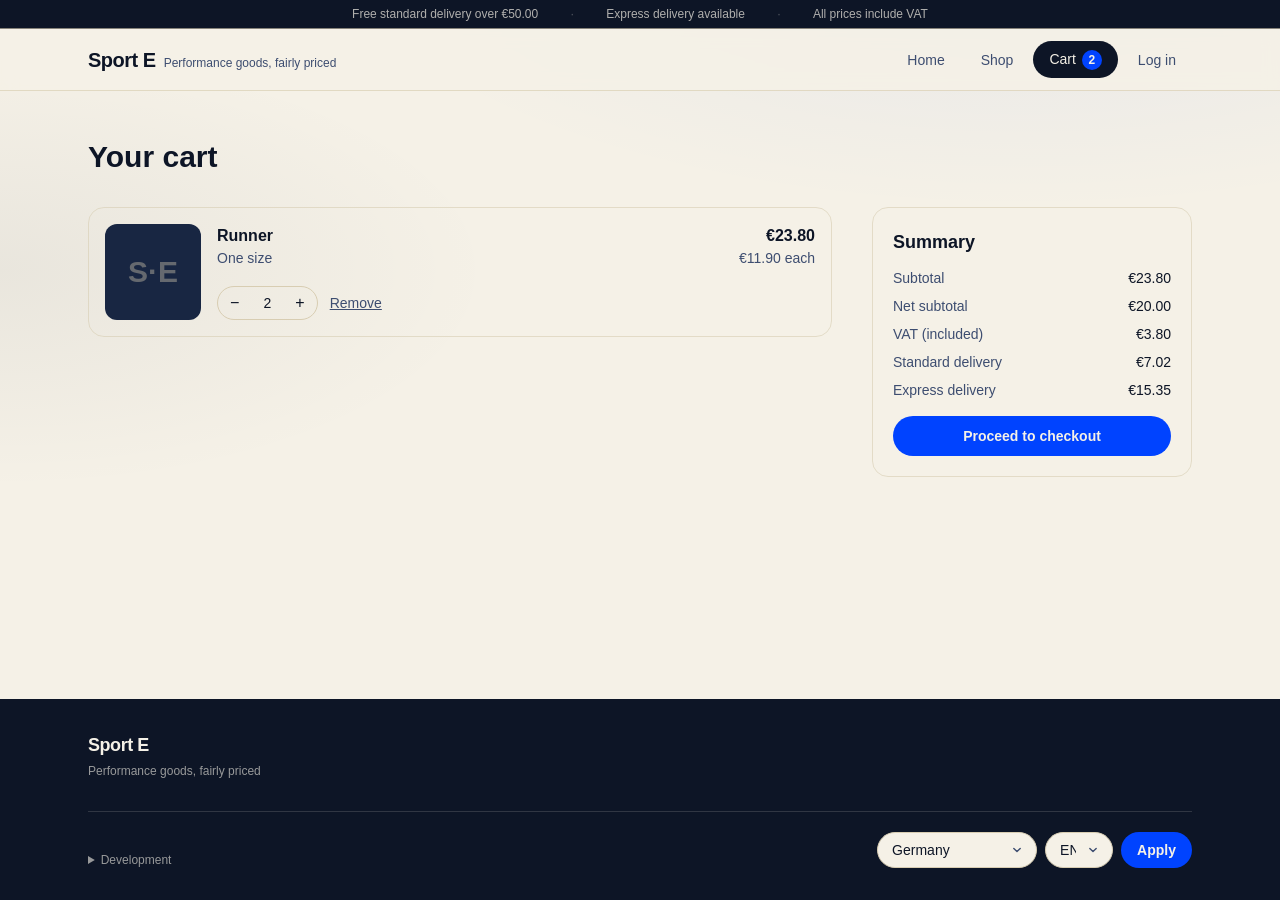
cart page › renders lines, updates quantity and shows the nav badge
The image size is (1280, 900).
Expected: the heading "Your cart" is shown, [88,140,218,173]
Expected: the link "Runner" is shown, [217,227,273,244]
Click the button named "Increase quantity" at (300, 303), box [283,287,317,319]
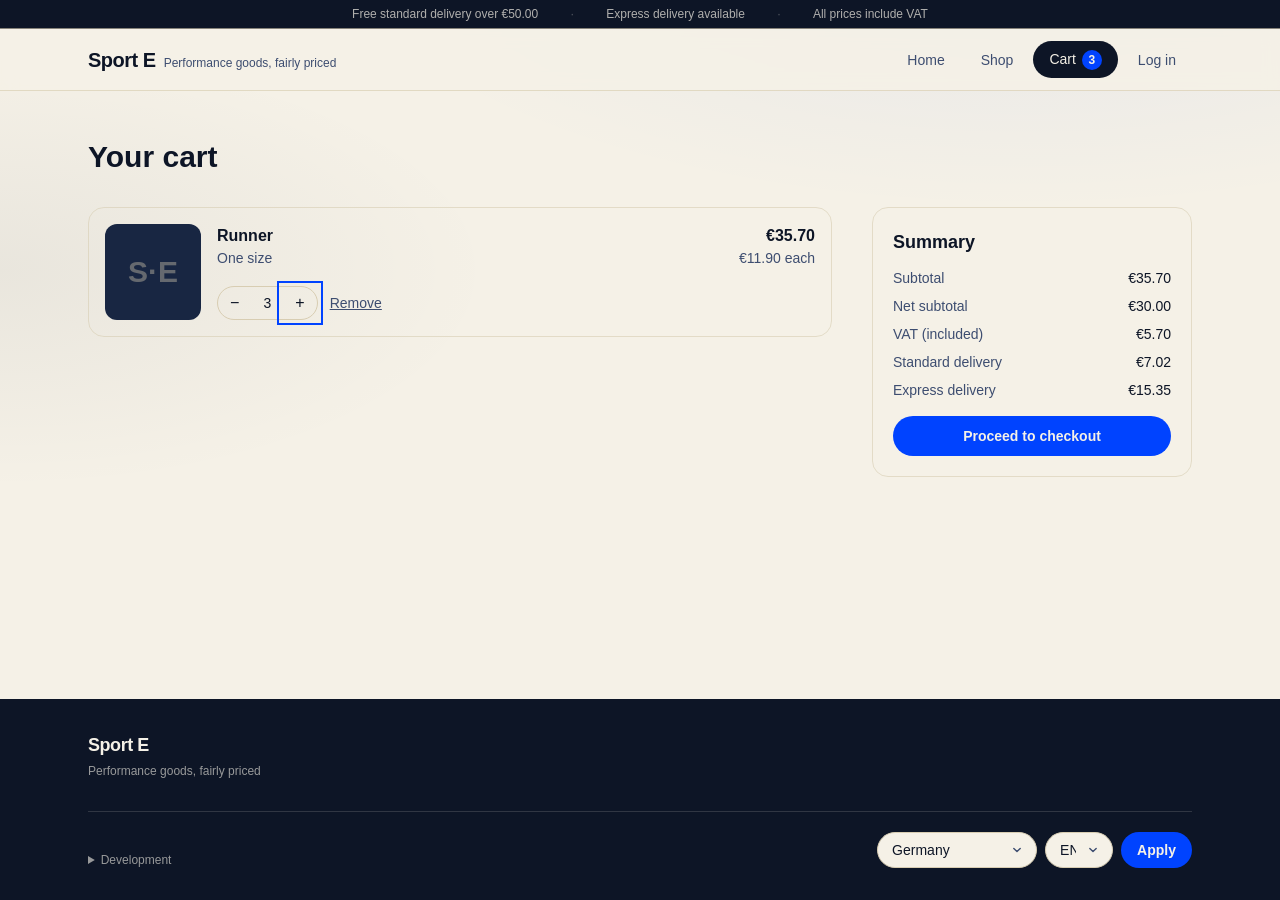
Expected: the text named "Quantity: 3" is shown, [263,295,271,311]
